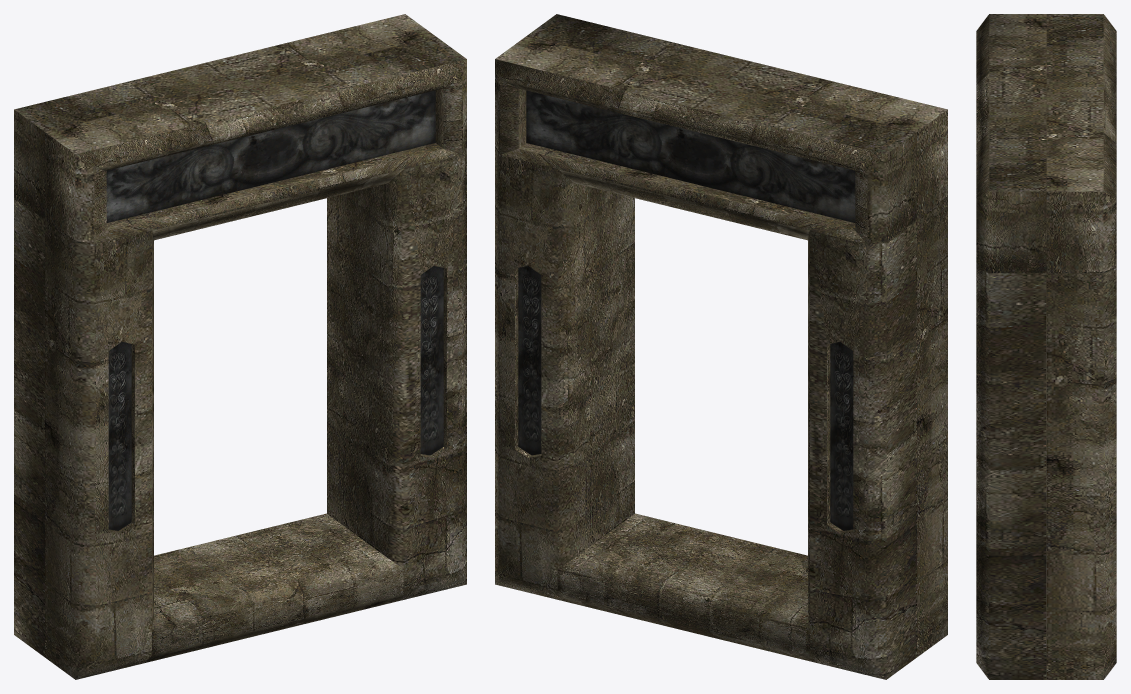
File: door_frame_worn.dae
The picture shows the model from 3 angles, left to right: view 1: azimuth 30°, elevation 25°; view 2: azimuth 150°, elevation 25°; view 3: azimuth 270°, elevation 25°; orthographic projection. The views are drawn at different scales.
Parts seen in each view (by area): view 1: polySurface130, polySurface154; view 2: polySurface130, polySurface154; view 3: polySurface130.
Part boxes in pixels (<box>): polySurface130: <box>14,14,466,679</box>; polySurface154: <box>106,90,443,530</box>; polySurface130: <box>495,14,947,679</box>; polySurface154: <box>518,90,855,530</box>; polySurface130: <box>976,14,1116,679</box>.
Bounding box in the file's own units: 3 × 3.85 × 1.
